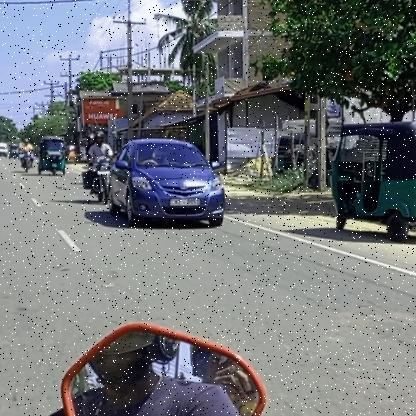motorcycle: (86, 158, 116, 208)
